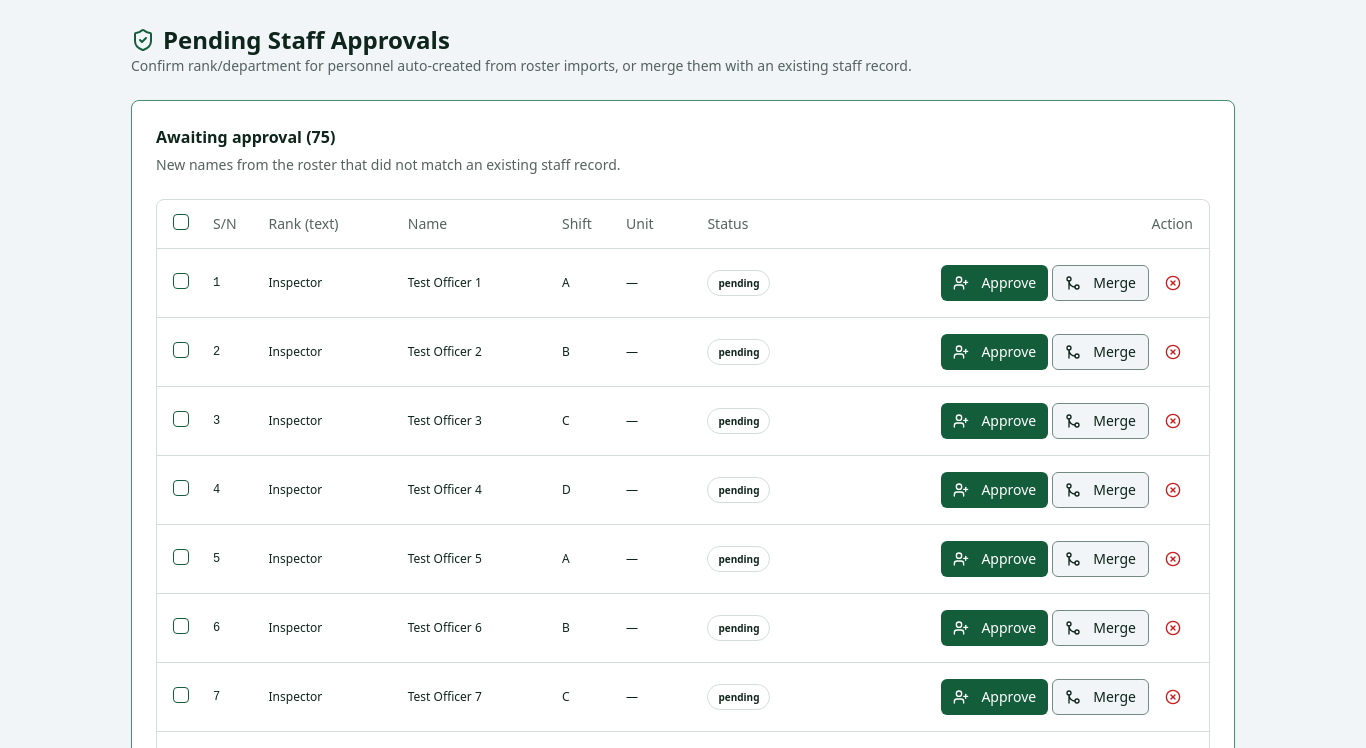
Test: PendingStaffApprovals — bulk actions › bulk delete deletes profiles and marks matches rejected in batches of 50
Later steps or results of the test are not shown.
Expected: the text "Test Officer 1" is shown, [392,248,546,317]
Click the checkbox named "select all": (181, 222) [173,214,189,230]
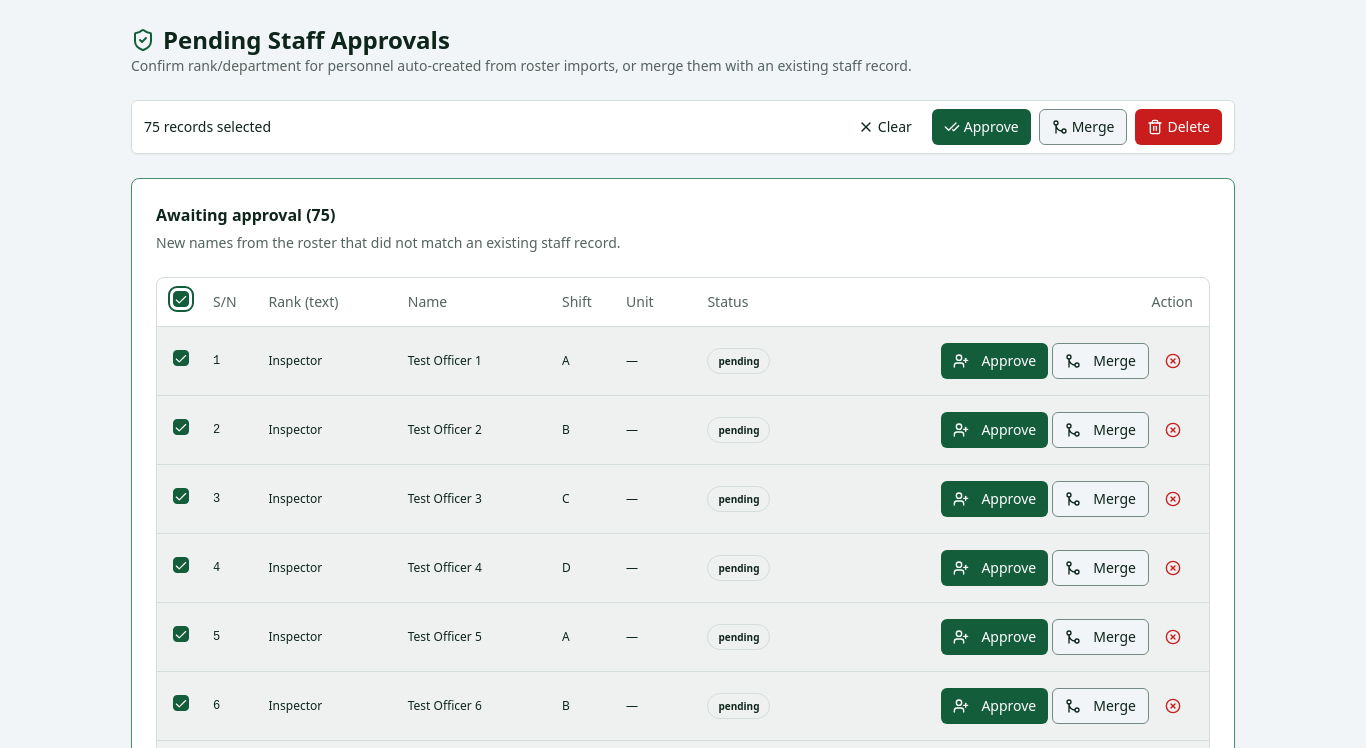
Click the button "Delete": (1179, 127) [1135,109,1222,145]
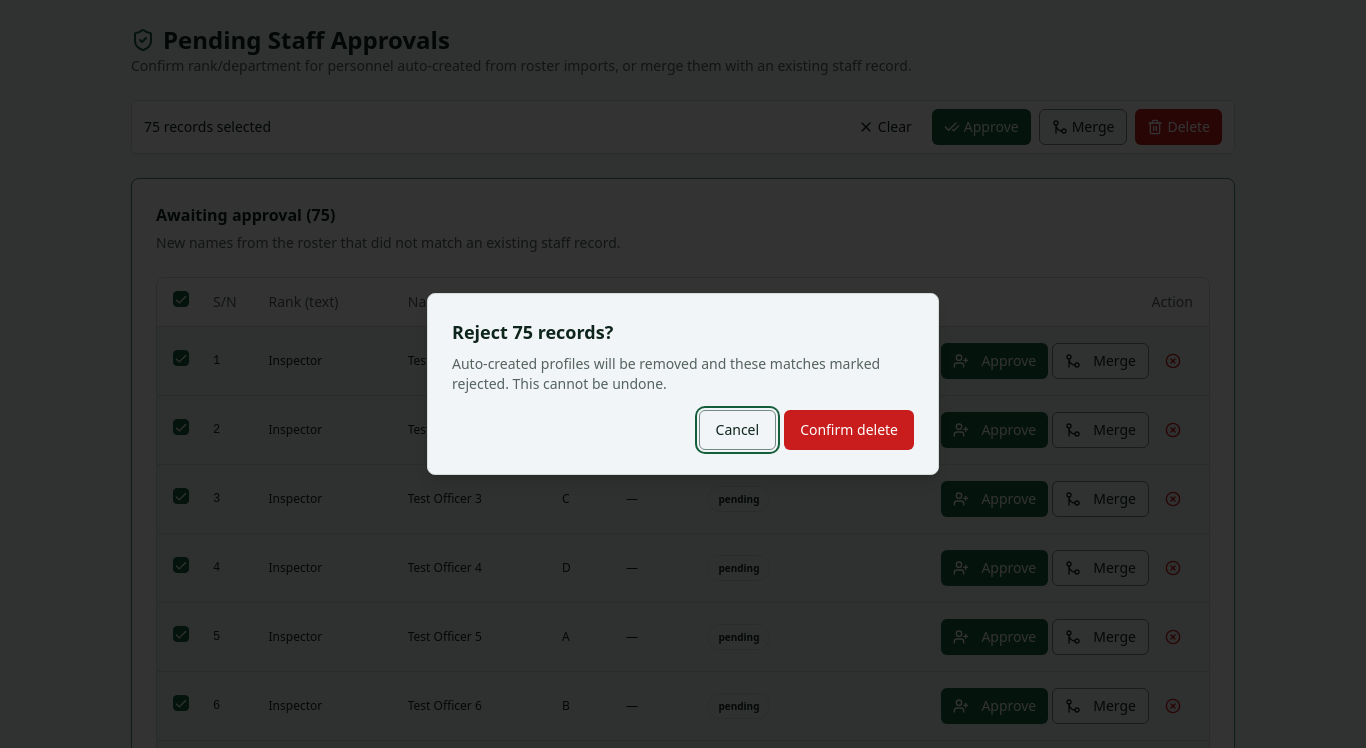
Result: the heading "Reject 75 records?" is shown at [452,320,613,344]
